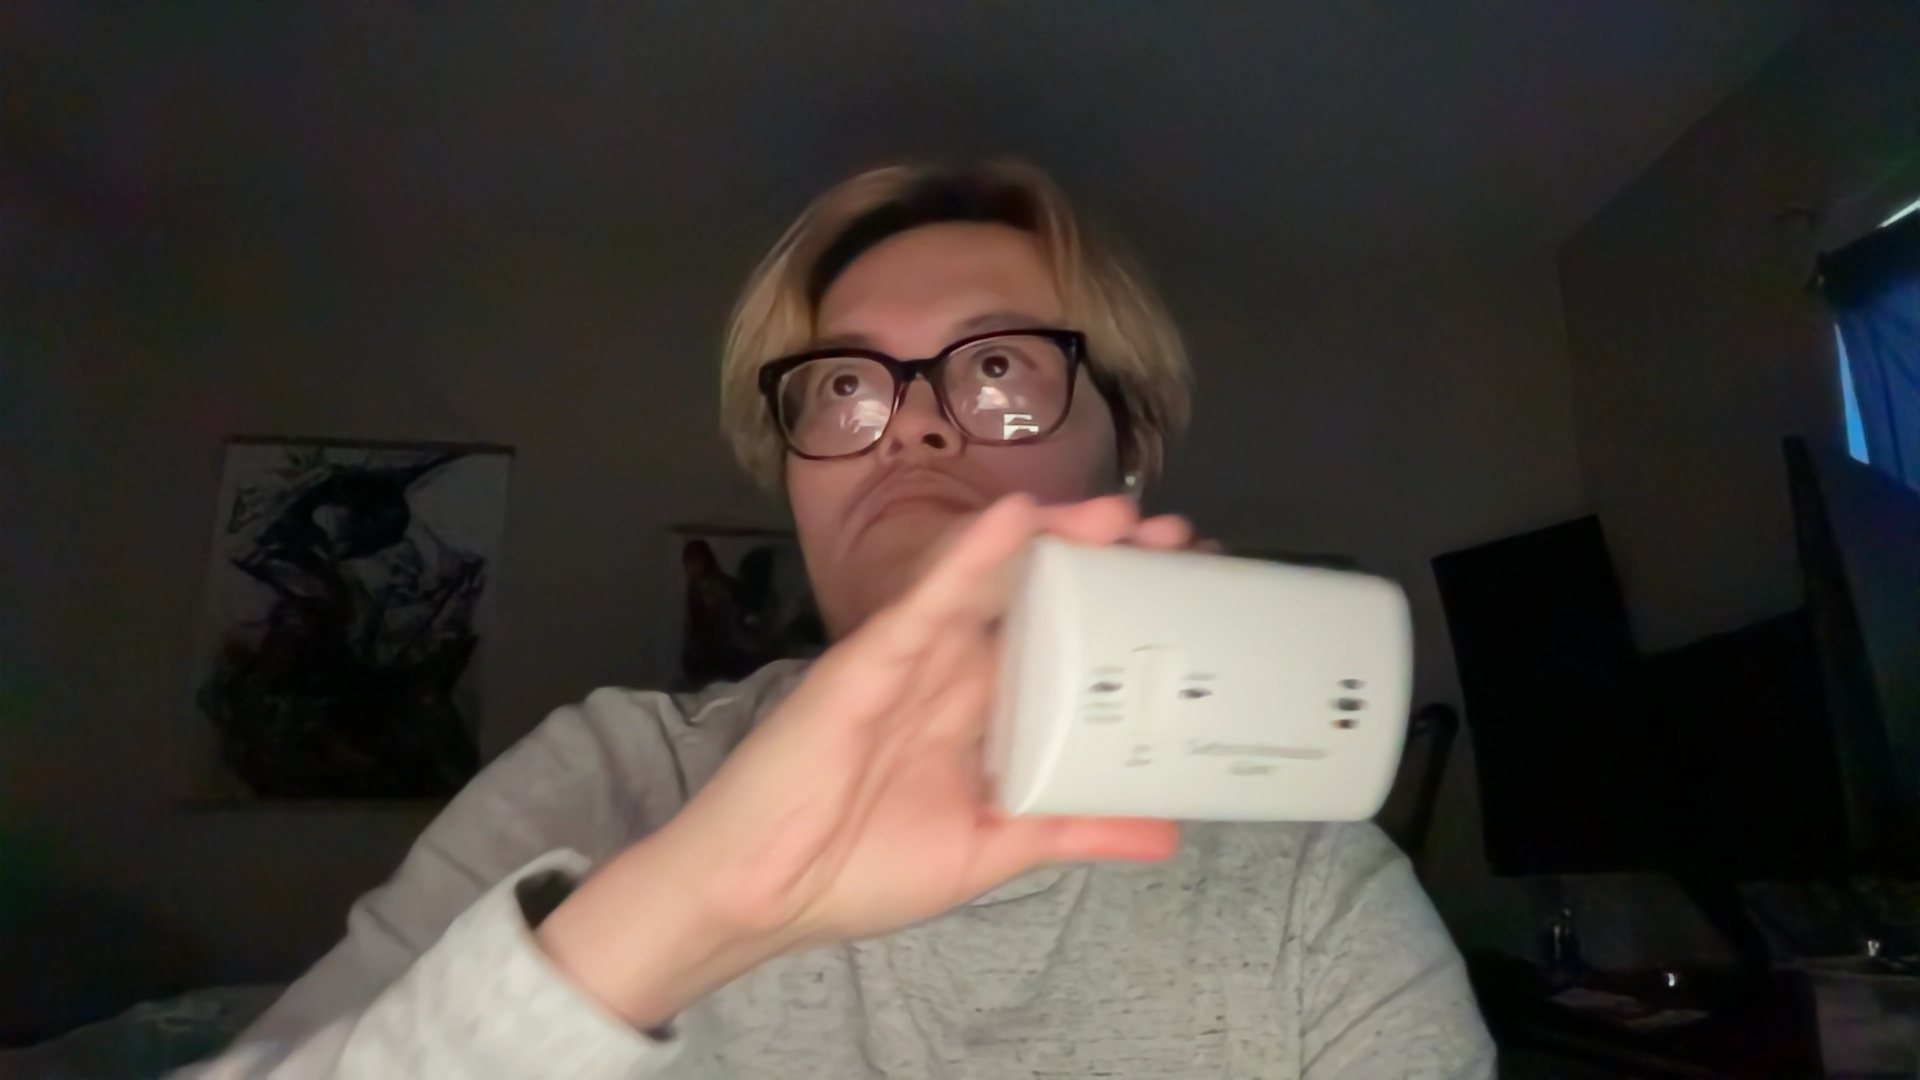carbonmonitor: (994, 520, 1416, 833)
